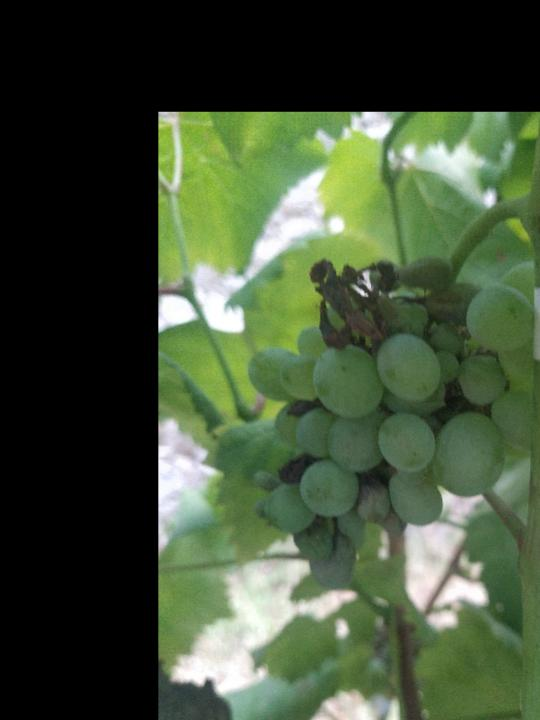grape: (241, 250, 533, 593)
